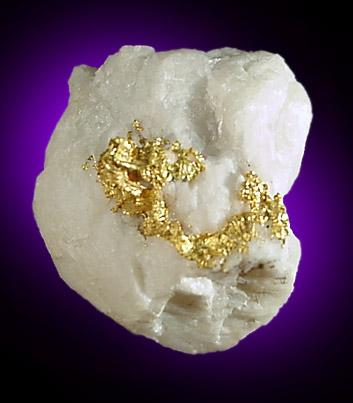gold: (88, 121, 290, 269)
